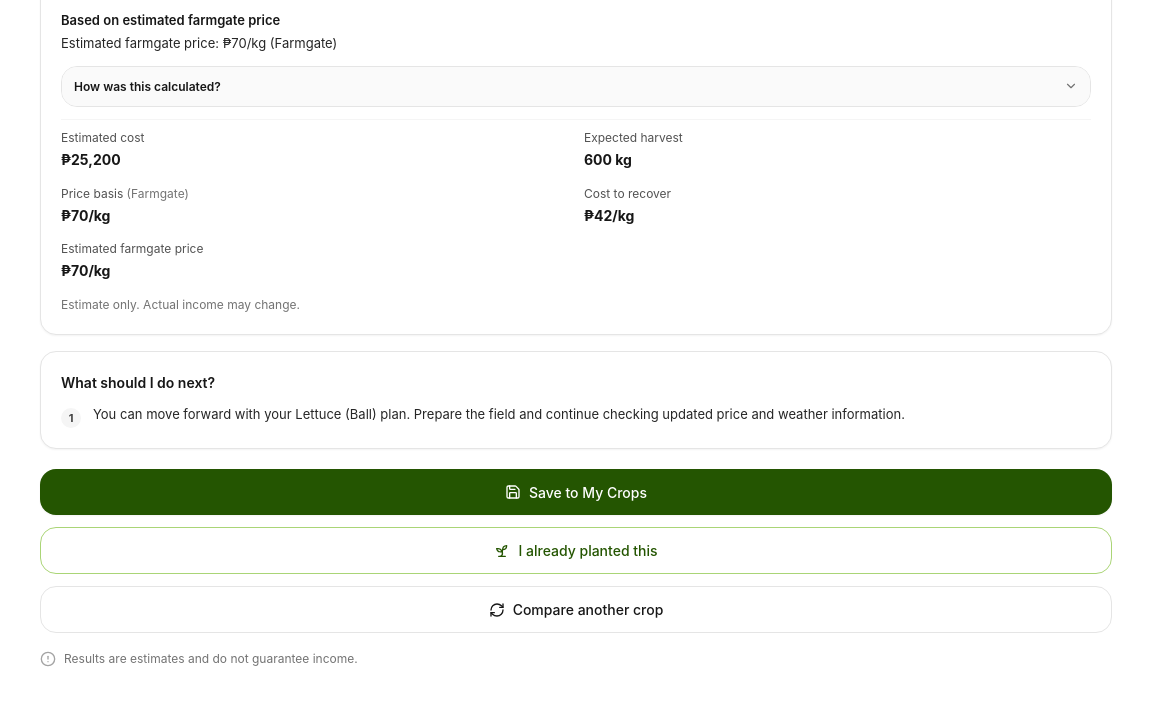
Test: RecommendationResult — offline save (Problem 1) › keeps backend field message on 422 errors
(page scrolled)
Click the button "Save to My Crops": (576, 492) [40, 469, 1112, 515]
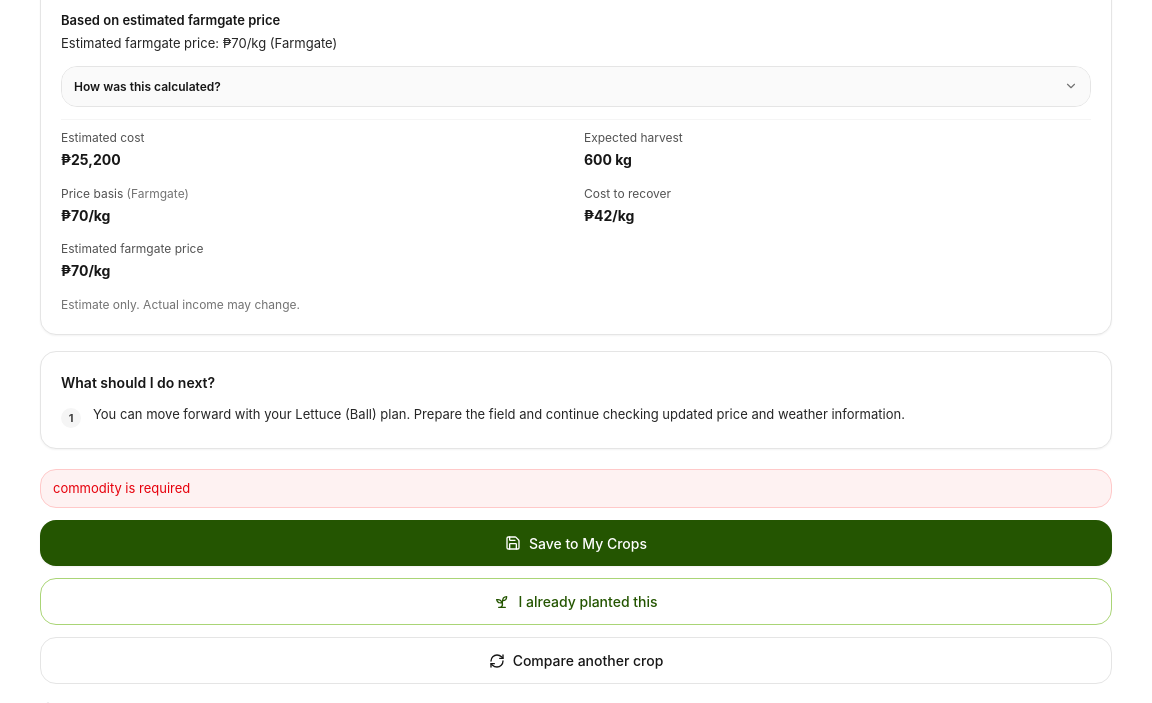
Expected: the text "commodity is required" is shown, [40, 469, 1112, 508]
